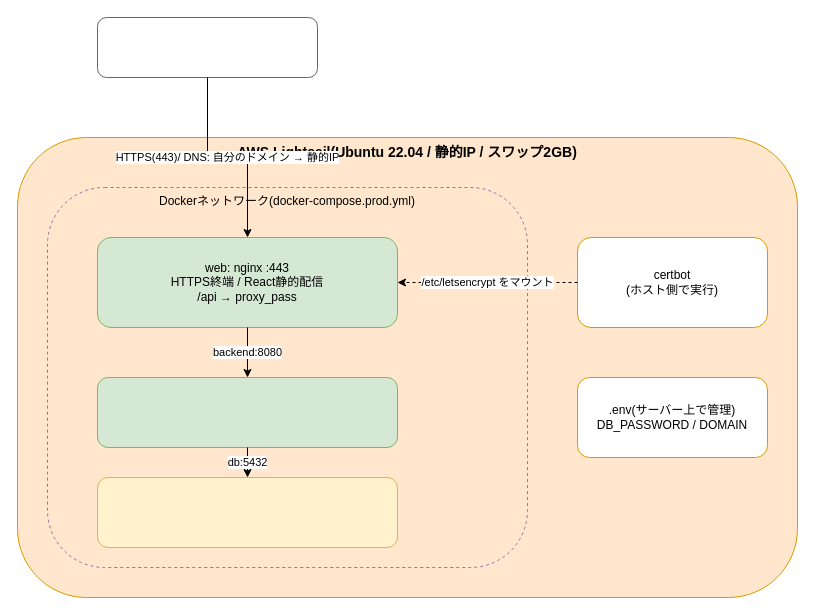
This 815x615 diagram has some shape labels left out. The centre of each missing label's shape, as x and y in pixels:
backend Spring Boot :8080: [247,412]
db PostgreSQL 16: [247,512]
利用者ブラウザ: [207,47]
